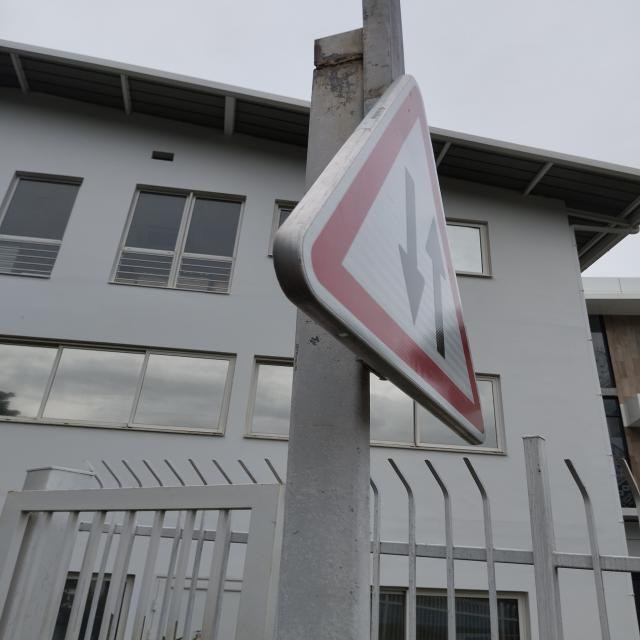Double-Sens: (256, 71, 493, 462)
